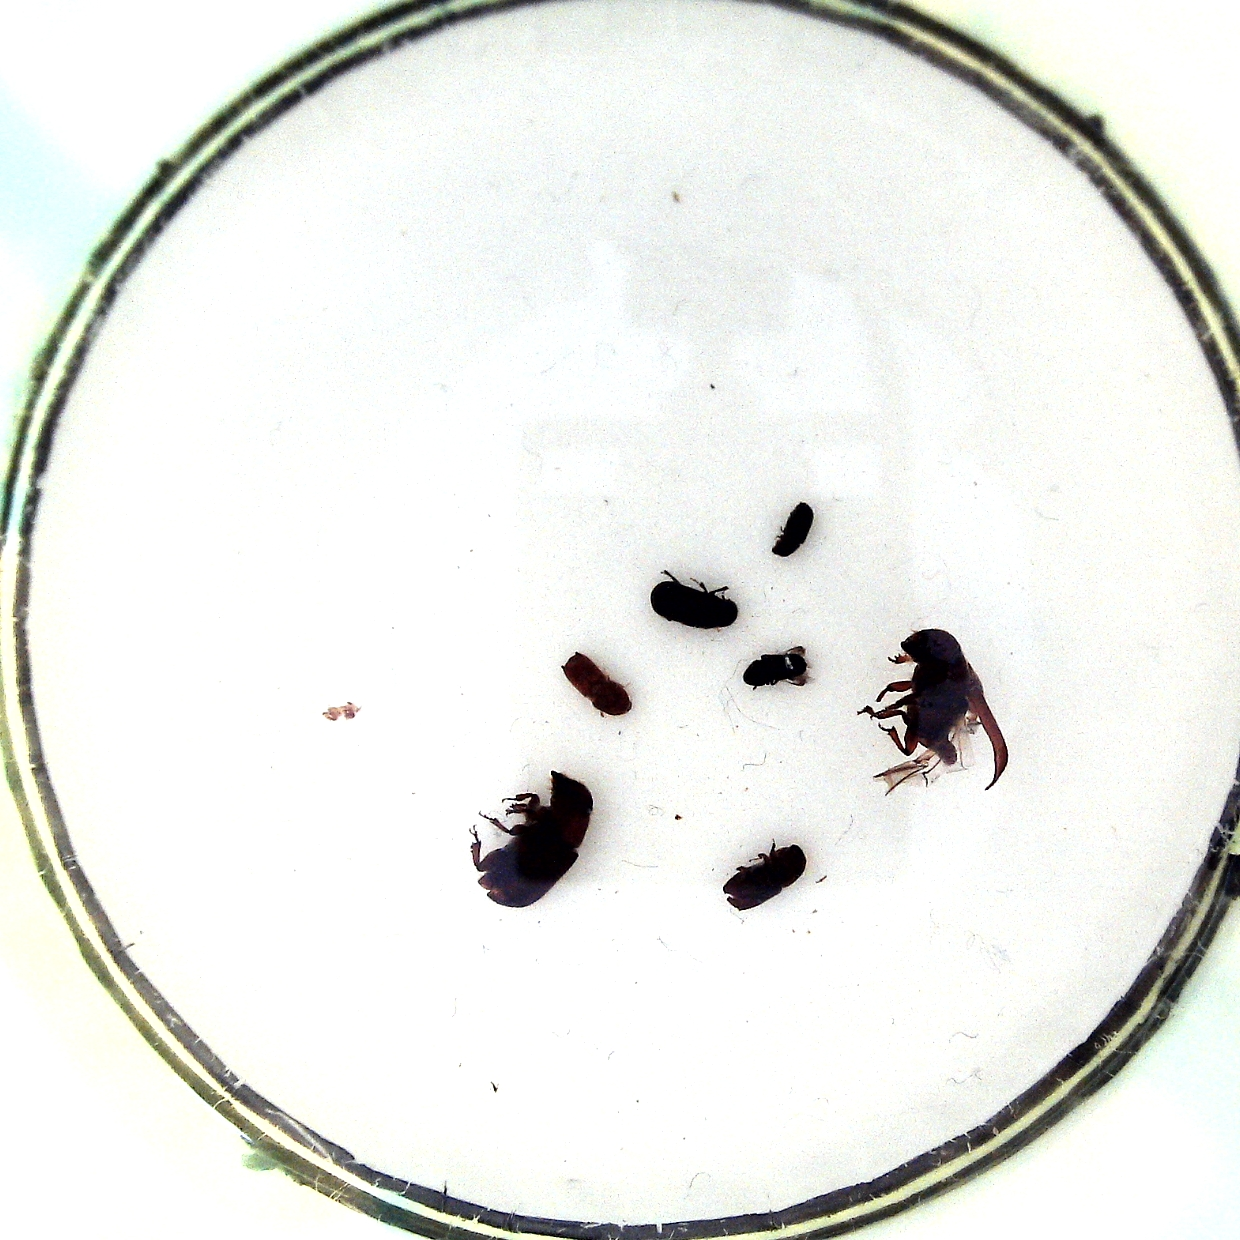Leconte: (856, 629, 1013, 794), (461, 766, 592, 912)
Linnaeus: (720, 837, 810, 919)
acuminatus: (558, 650, 630, 730)
armandi: (648, 570, 742, 634)
coleoptera: (744, 638, 815, 696), (766, 498, 816, 560)
